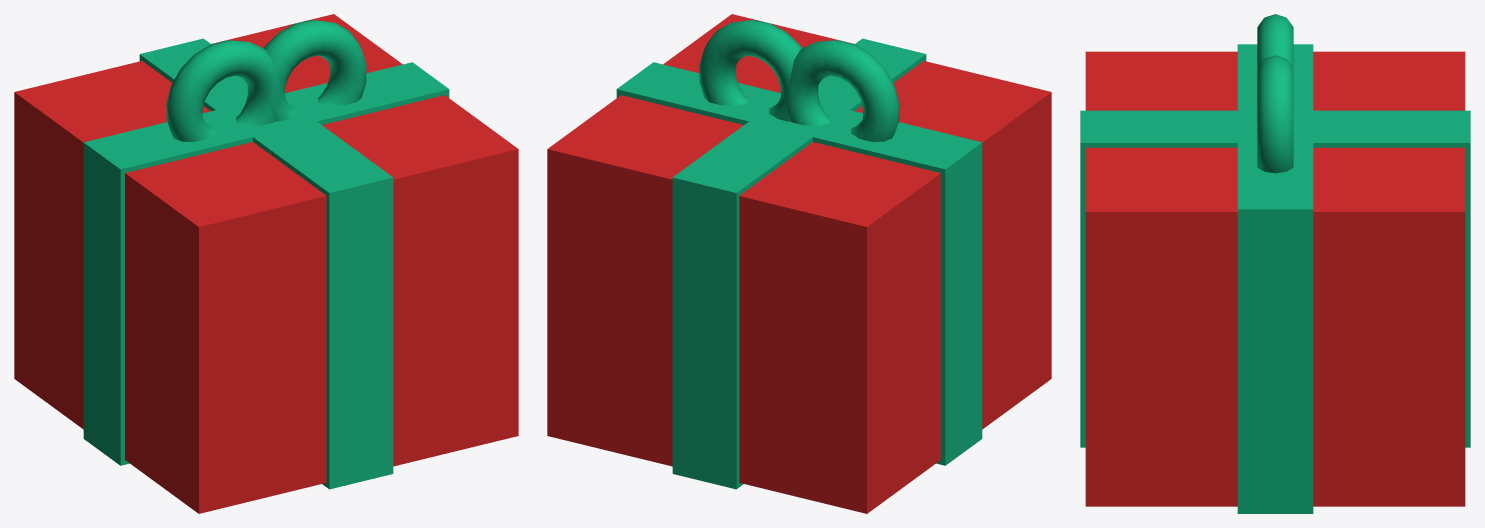
File: gift.glb
3 views of the same model, side by side, from view 1: azimuth 30°, elevation 25°; view 2: azimuth 150°, elevation 25°; view 3: azimuth 270°, elevation 25° (orthographic). The views are drawn at different scales.
Bounding box in the file's own units: 0.72 × 0.794 × 0.72.
